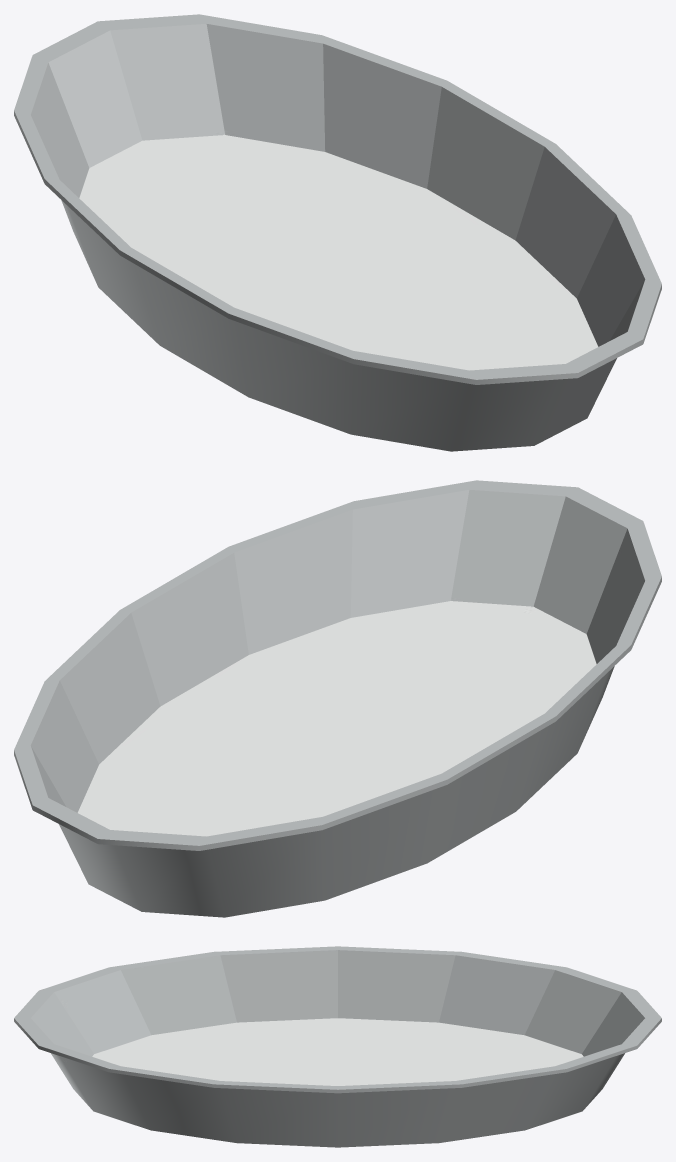
Rendered from FoodTray.fbx.
3 renders of one model, top to bottom at view 1: azimuth 30°, elevation 25°; view 2: azimuth 150°, elevation 25°; view 3: azimuth 270°, elevation 25°, orthographic. The views are drawn at different scales.
Parts seen in each view (by area): view 1: FoodTray; view 2: FoodTray; view 3: FoodTray.
Part boxes in pixels (x1=…): FoodTray: x1=14, y1=14, x2=661, y2=451; FoodTray: x1=14, y1=480, x2=661, y2=917; FoodTray: x1=14, y1=946, x2=661, y2=1147.
Bounding box in the file's own units: 0.7005 × 0.1614 × 1.34.
1 material, 1 textured.
